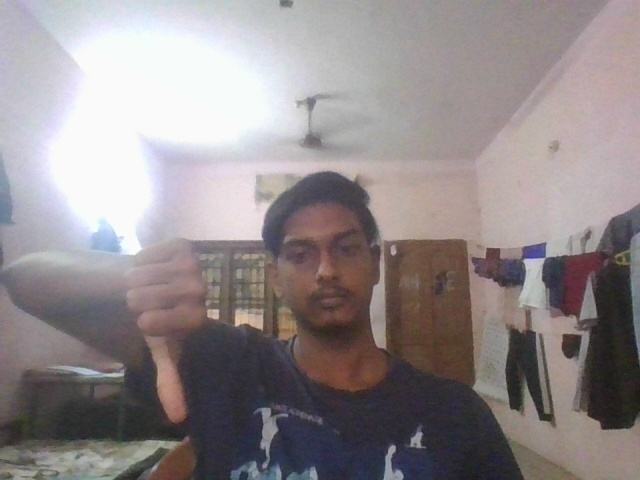thumbsdown: (118, 230, 214, 429)
